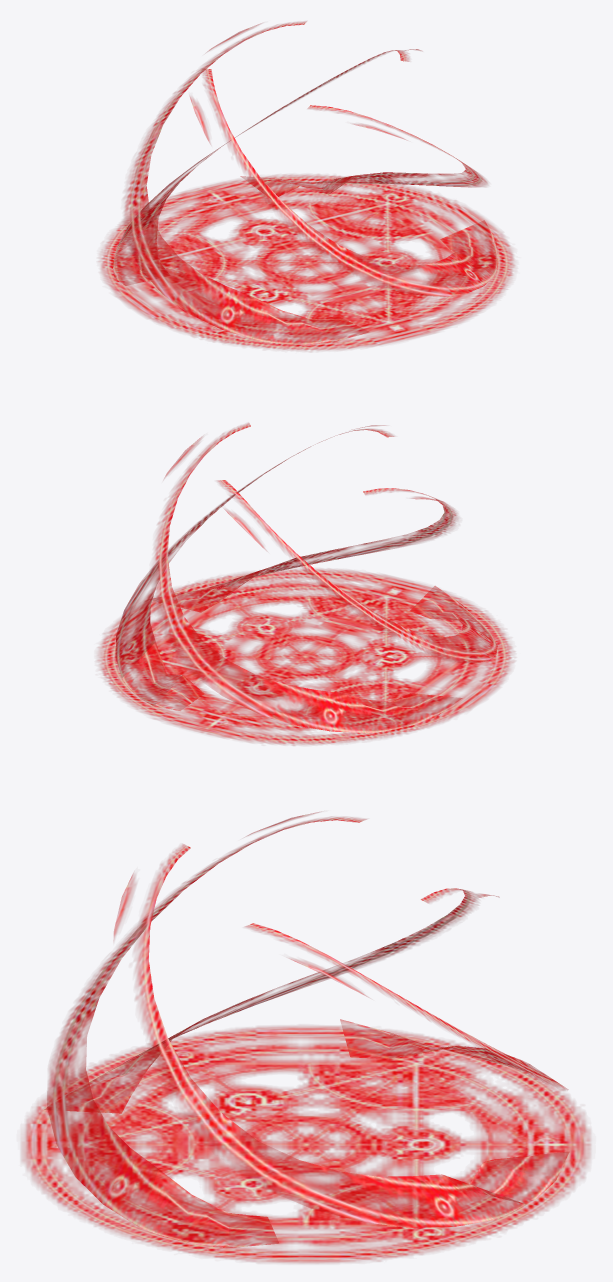
Rendered from red-magic-ring.glb.
3 renders of one model, top to bottom at view 1: azimuth 30°, elevation 25°; view 2: azimuth 150°, elevation 25°; view 3: azimuth 270°, elevation 25°, orthographic. The views are drawn at different scales.
Visible parts, largest first — view 1: Circle; view 2: Circle; view 3: Circle.
Boxes of the visible parts, box(x1,y1,x2,y2) form: Circle: box(99, 21, 514, 350); Circle: box(97, 423, 514, 745); Circle: box(22, 812, 590, 1263).
Size of the model in its own units: 10.45 by 5.36 by 10.45.
Materials: 1 (1 with a texture image).
